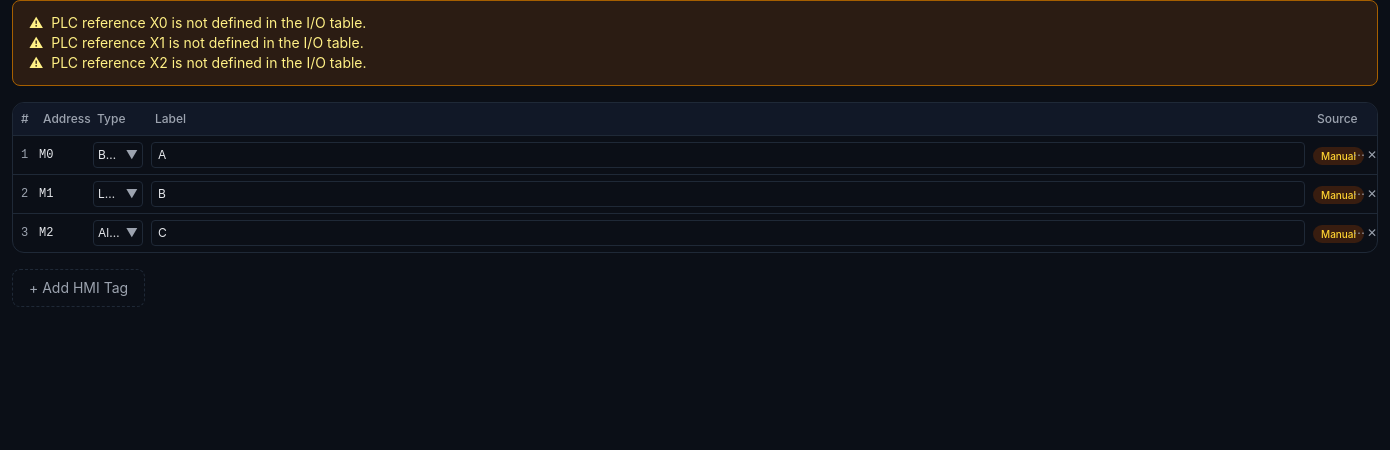
Test: HMITagTable › overflow banner (M7.1) › keeps expanded state correctly after deleting a row
Click the button with test id "hmi-more-1" at (1359, 194), box [1353,182,1365,206]
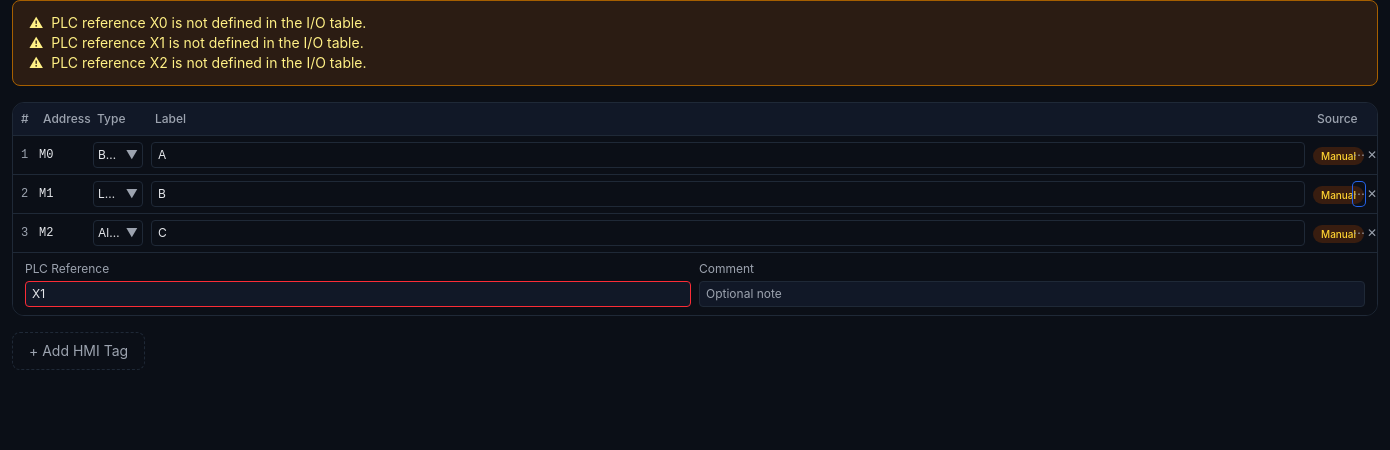
Click the button with test id "hmi-more-2" at (1359, 233), box [1353,221,1365,245]
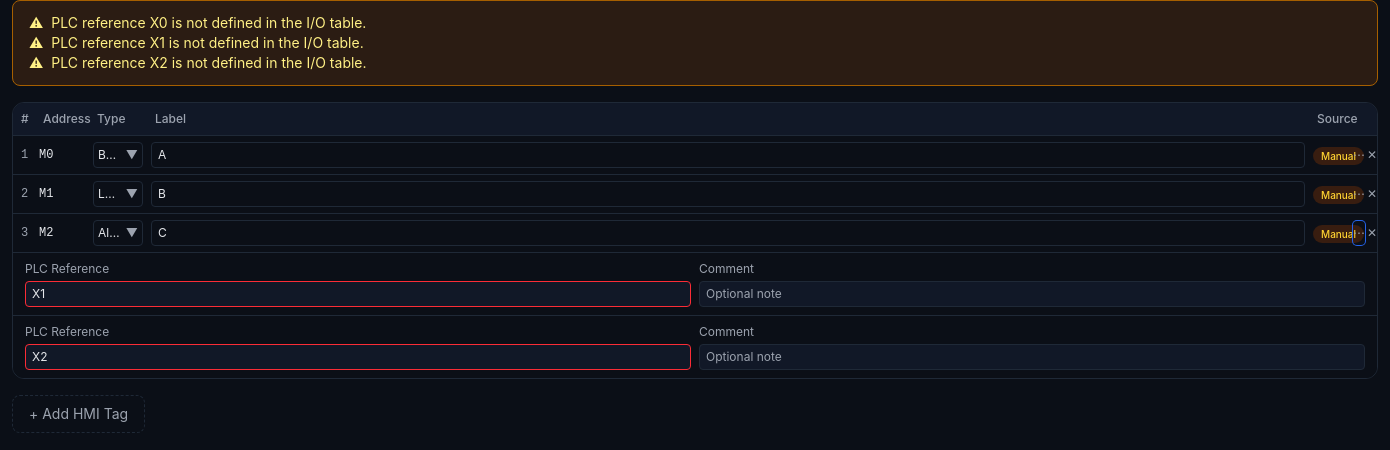
Expected: the row with test id "hmi-more-row-1" is shown, [13,252,1377,316]
Expected: the row with test id "hmi-more-row-2" is shown, [13,316,1377,378]
Click the button with test id "hmi-delete-0" at (1372, 155), box [1367,143,1377,167]
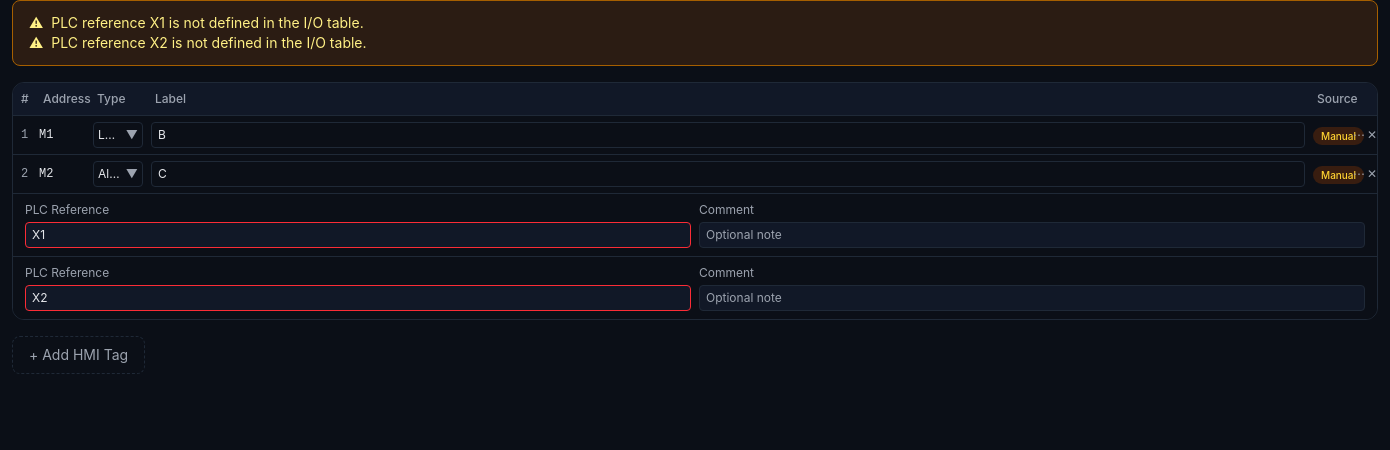
Expected: the text "M0" is gone
Expected: the row with test id "hmi-more-row-0" is shown, [13,194,1377,256]
Expected: the row with test id "hmi-more-row-1" is shown, [13,256,1377,319]
